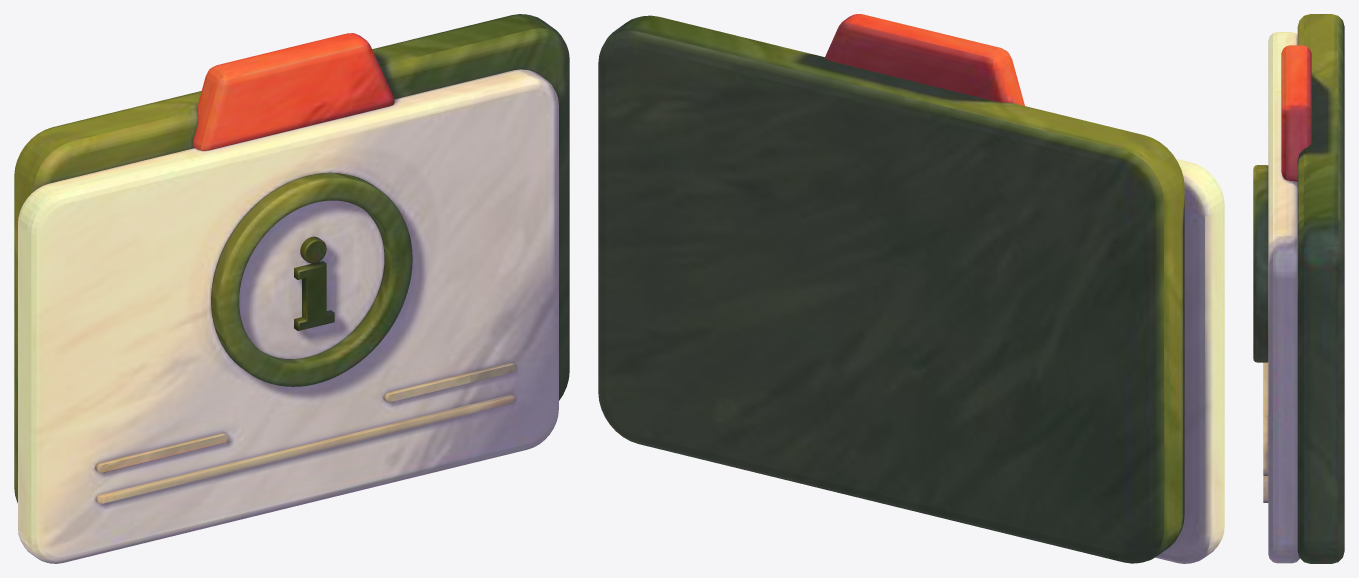
The model's file is about.glb.
3 views of the same model, side by side, from view 1: azimuth 30°, elevation 25°; view 2: azimuth 150°, elevation 25°; view 3: azimuth 270°, elevation 25° (orthographic). The views are drawn at different scales.
Visible parts, largest first — view 1: Coral index tab; view 2: Coral index tab; view 3: Coral index tab.
Boxes of the visible parts, x1,y1,x2,y2 form: Coral index tab: [14, 14, 569, 563]; Coral index tab: [598, 14, 1224, 563]; Coral index tab: [1253, 14, 1344, 563].
Bounding box in the file's own units: 2.4 × 1.83 × 0.3884.
1 material, 1 textured.
